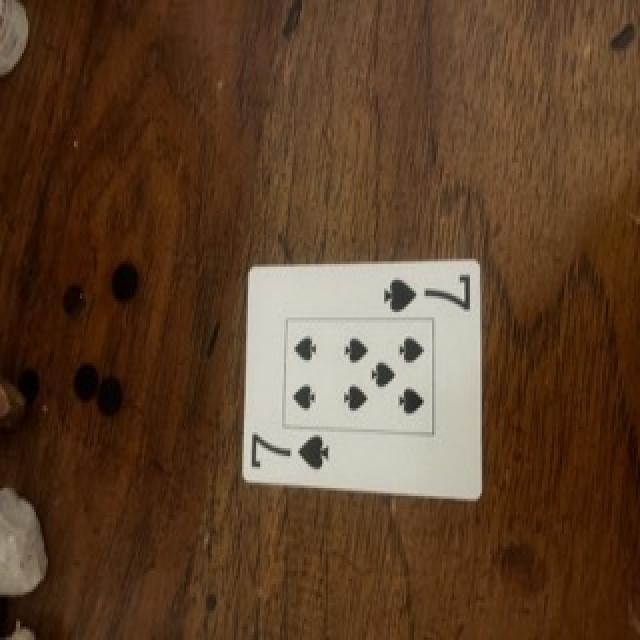7 of spades: (242, 260, 481, 500)
